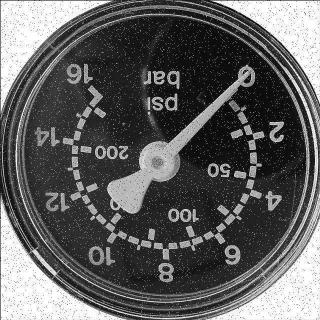gauge: (0, 0, 320, 320), (138, 140, 181, 183), (220, 74, 250, 104), (74, 77, 106, 103), (232, 71, 247, 87)
